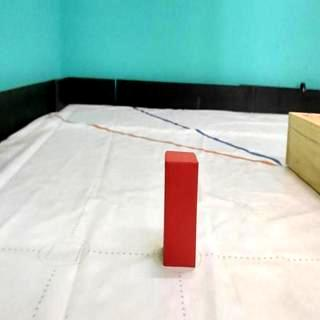redbox: (164, 151, 197, 269)
